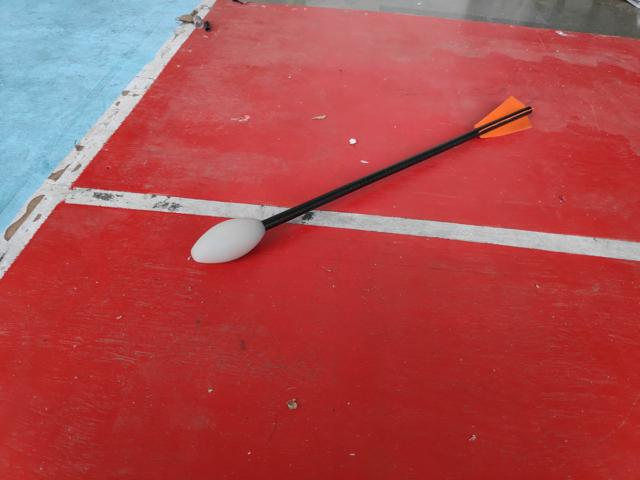Head: (185, 215, 269, 270)
Tail: (472, 94, 537, 141)
